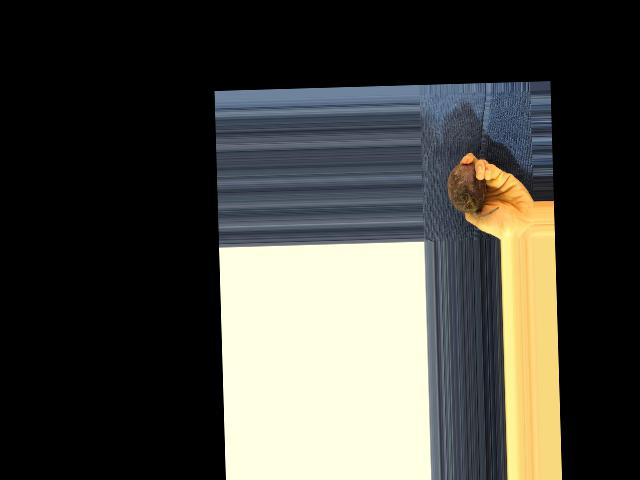beet: (447, 162, 500, 218)
